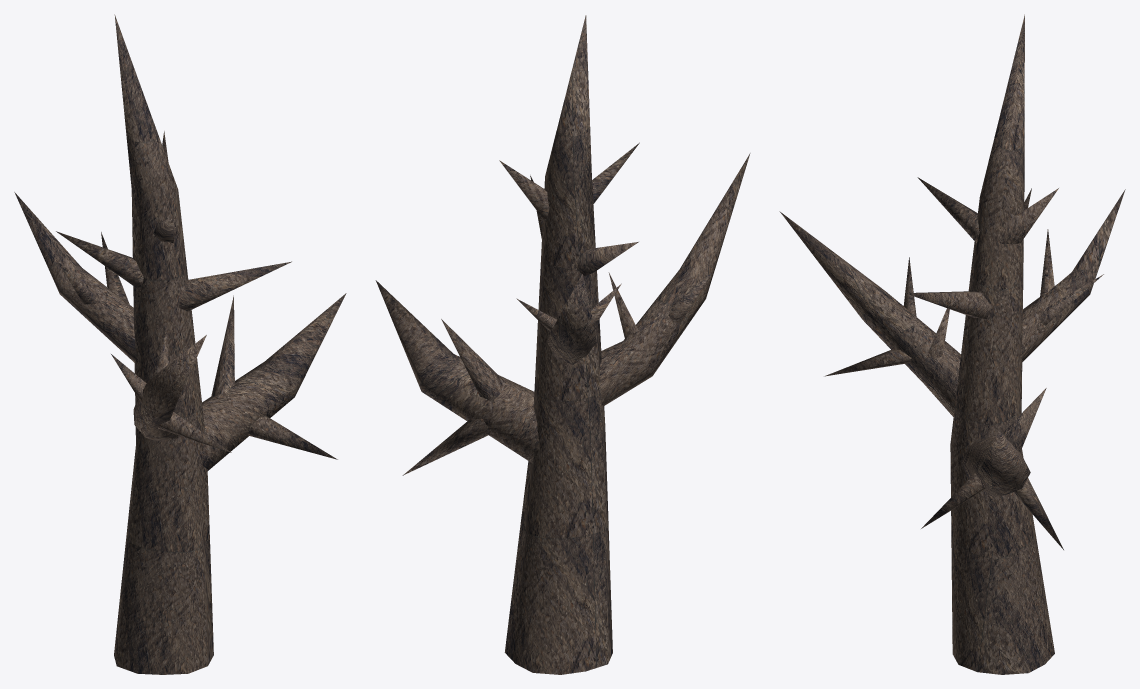
The model's file is dead-tree-low-poly.glb.
3 renders of one model, left to right at view 1: azimuth 30°, elevation 25°; view 2: azimuth 150°, elevation 25°; view 3: azimuth 270°, elevation 25°, orthographic. The views are drawn at different scales.
Parts seen in each view (by area): view 1: Circle_Circle.001; view 2: Circle_Circle.001; view 3: Circle_Circle.001.
Boxes of the visible parts, x1,y1,x2,y2 form: Circle_Circle.001: (14, 14, 346, 674); Circle_Circle.001: (375, 15, 750, 674); Circle_Circle.001: (779, 14, 1125, 674).
Size of the model in its own units: 6.41 by 13.89 by 7.
1 material, 1 textured.
